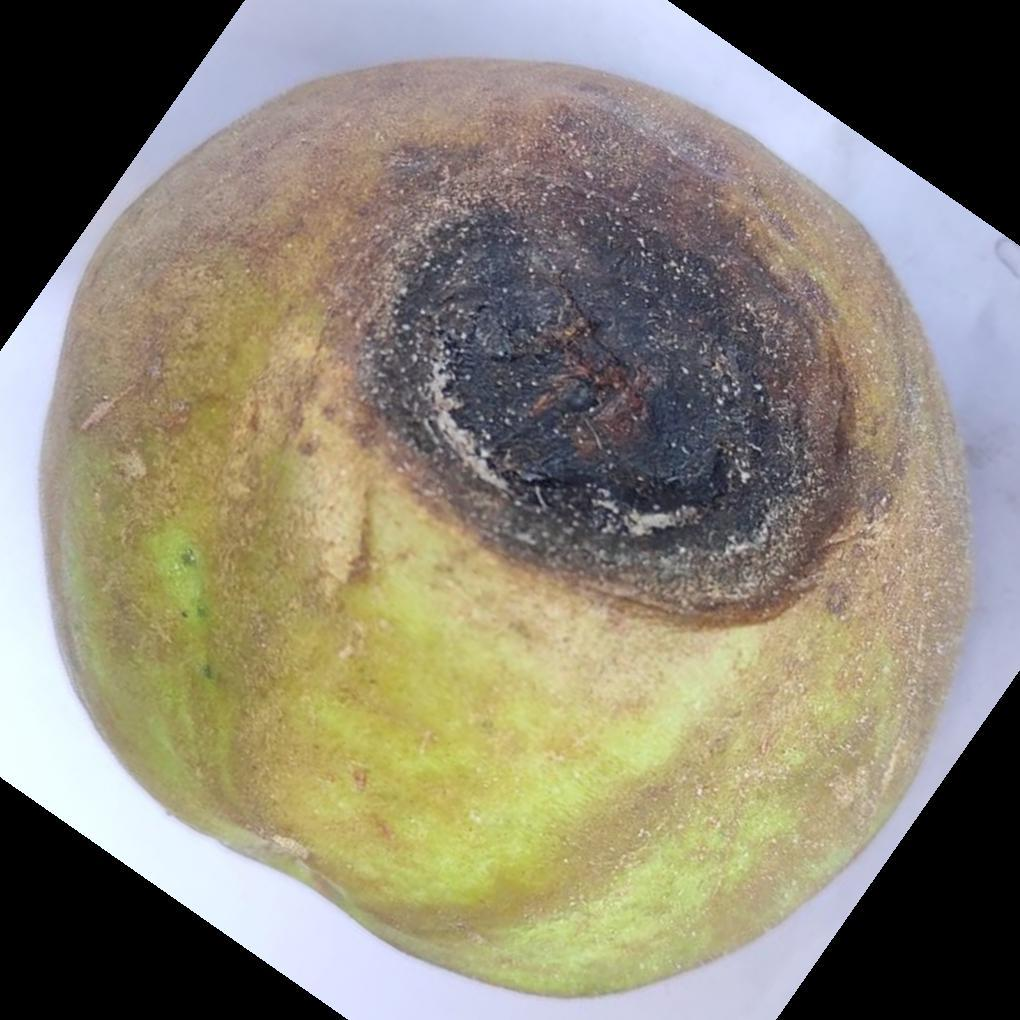FreshOrange: (30, 57, 975, 1002)
